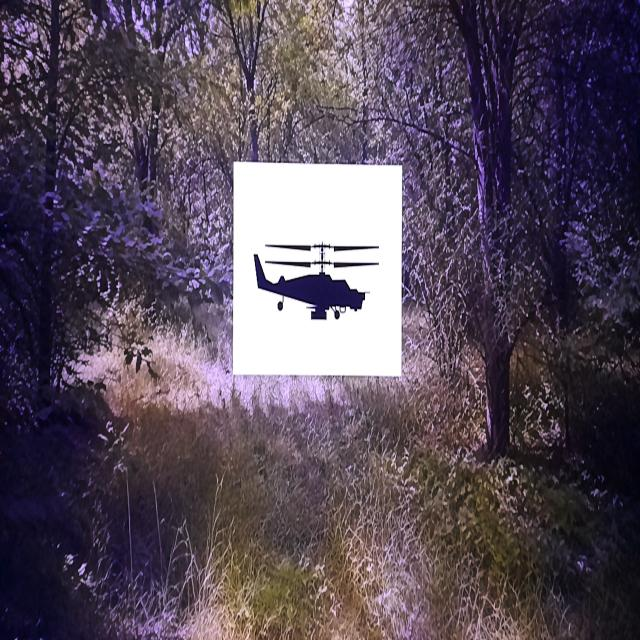Ka-52 Enemy: (255, 243, 378, 319)
